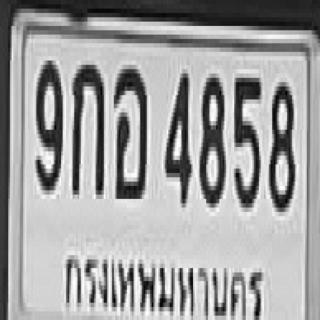A01: (71, 60, 102, 194)
A43: (112, 65, 145, 195)
N04: (163, 69, 190, 203)
N05: (232, 74, 259, 203)
N08: (267, 78, 294, 208), (198, 69, 224, 203)
N09: (34, 56, 61, 190)
P04: (59, 242, 267, 320)
